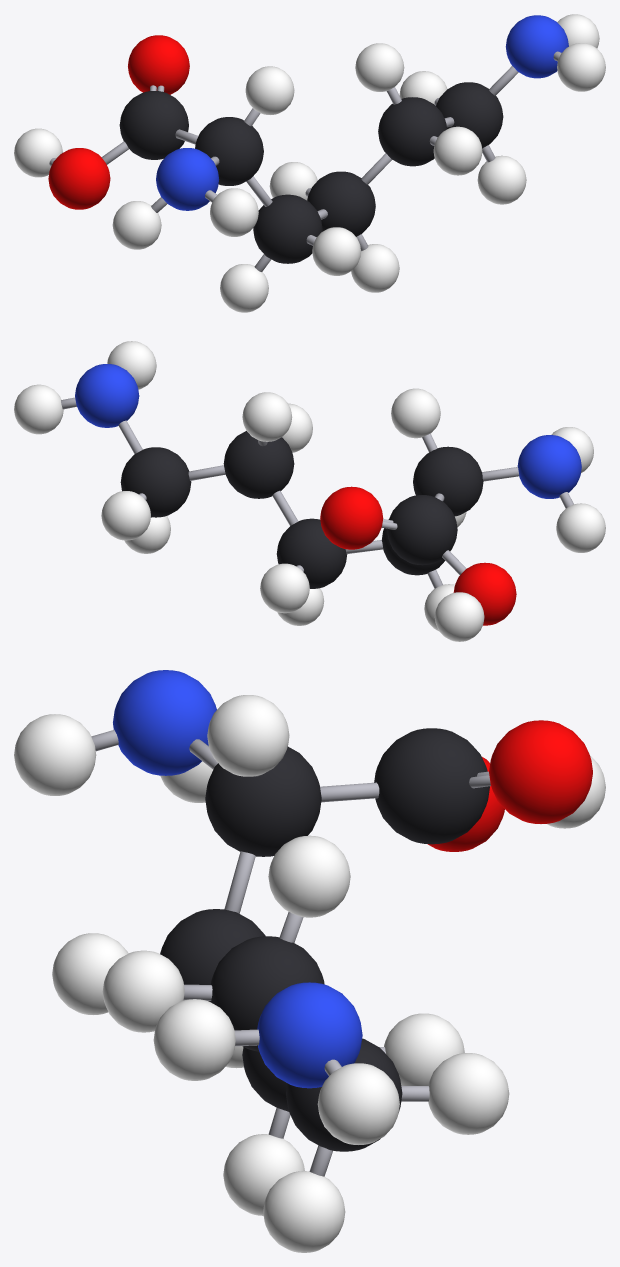
Rendered from lysine.glb.
3 renders of one model, top to bottom at view 1: azimuth 30°, elevation 25°; view 2: azimuth 150°, elevation 25°; view 3: azimuth 270°, elevation 25°, orthographic. The views are drawn at different scales.
Parts seen in each view (by area): view 1: C7, C4, C2, C5, C3, N6, O9, N0, O8, C1, H18, H15 (+12 smaller); view 2: C7, C2, C1, C5, N0, N6, O8, C3, O9, H12, H23, H15 (+11 smaller); view 3: C7, C5, O8, N0, N6, C2, H20, H11, H15, H22, H10, H13 (+13 smaller).
Part boxes in pixels (x1,y1,x2,y2): C7: [119, 91, 188, 159]; C4: [253, 194, 322, 263]; C2: [378, 97, 446, 166]; C5: [195, 117, 263, 185]; C3: [307, 171, 375, 236]; N6: [156, 148, 219, 210]; O9: [48, 148, 110, 209]; N0: [505, 15, 568, 78]; O8: [128, 35, 189, 94]; C1: [436, 82, 503, 148]; H18: [312, 227, 361, 275]; H15: [355, 43, 404, 91]; C7: [387, 495, 457, 565]; C2: [223, 431, 294, 498]; C1: [120, 447, 191, 517]; C5: [413, 446, 483, 516]; N0: [75, 364, 139, 427]; N6: [517, 435, 581, 498]; O8: [320, 486, 383, 549]; C3: [276, 518, 347, 588]; O9: [453, 562, 516, 625]; H12: [101, 491, 150, 540]; H23: [434, 592, 484, 641]; H15: [242, 392, 292, 441]; C7: [374, 728, 489, 844]; C5: [205, 746, 321, 856]; O8: [489, 720, 592, 823]; N0: [257, 982, 362, 1088]; N6: [113, 670, 216, 775]; C2: [210, 936, 324, 1051]; H20: [207, 695, 289, 776]; H11: [317, 1063, 399, 1144]; H15: [268, 835, 350, 917]; H22: [14, 714, 96, 795]; H10: [153, 999, 235, 1080]; H13: [263, 1171, 345, 1252].
Size of the model in its own units: 8.96 by 4.09 by 5.18.
